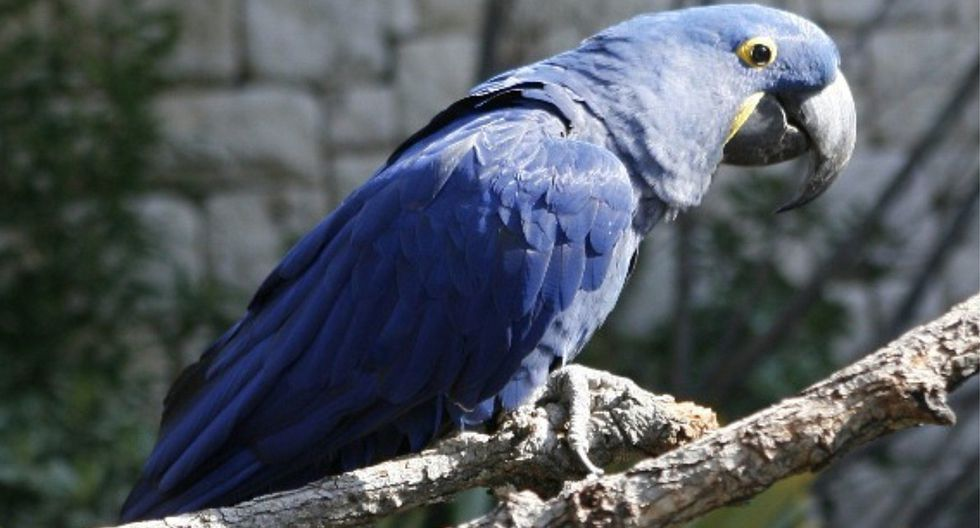guacamaya: (205, 1, 888, 345)
